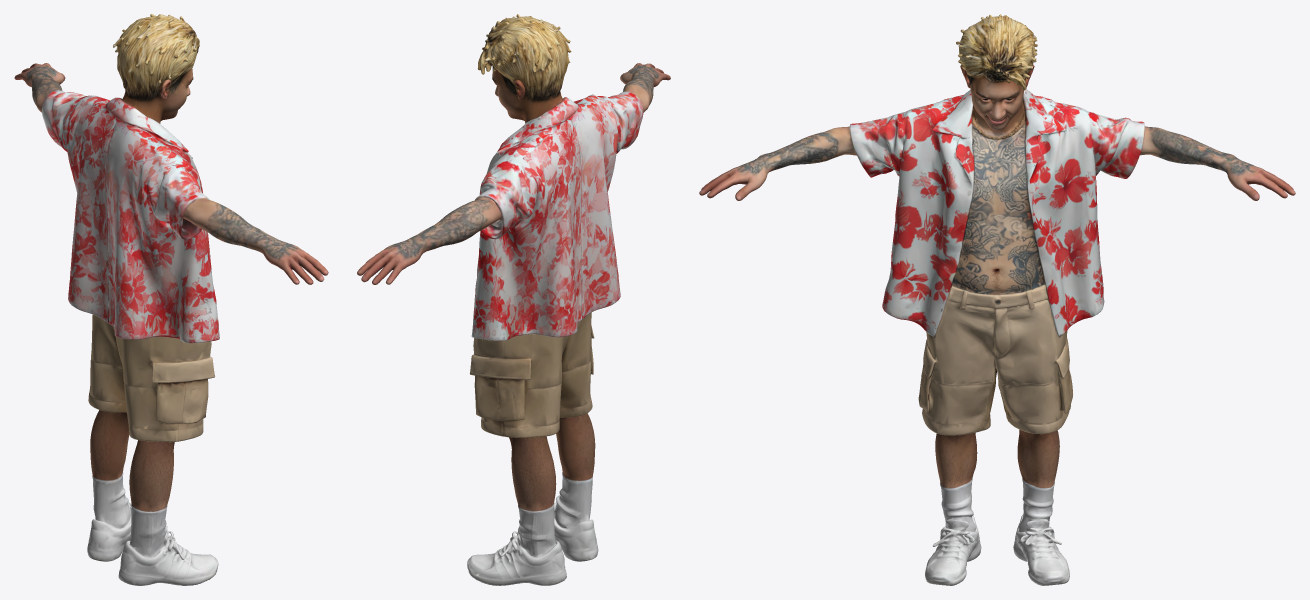
File: master.glb
3 views of the same model, side by side, from view 1: azimuth 30°, elevation 25°; view 2: azimuth 150°, elevation 25°; view 3: azimuth 270°, elevation 25° (orthographic). The views are drawn at different scales.
Visible parts, largest first — view 1: w_tp_sum_hawaii; view 2: w_tp_sum_hawaii; view 3: w_tp_sum_hawaii.
Boxes of the visible parts, left/top/right/bottom form: w_tp_sum_hawaii: left=14, top=14, right=328, bottom=585; w_tp_sum_hawaii: left=357, top=14, right=670, bottom=585; w_tp_sum_hawaii: left=699, top=14, right=1295, bottom=585.
Bounding box in the file's own units: 0.3761 × 1.8 × 1.74.
Materials: 1 (1 with a texture image).
